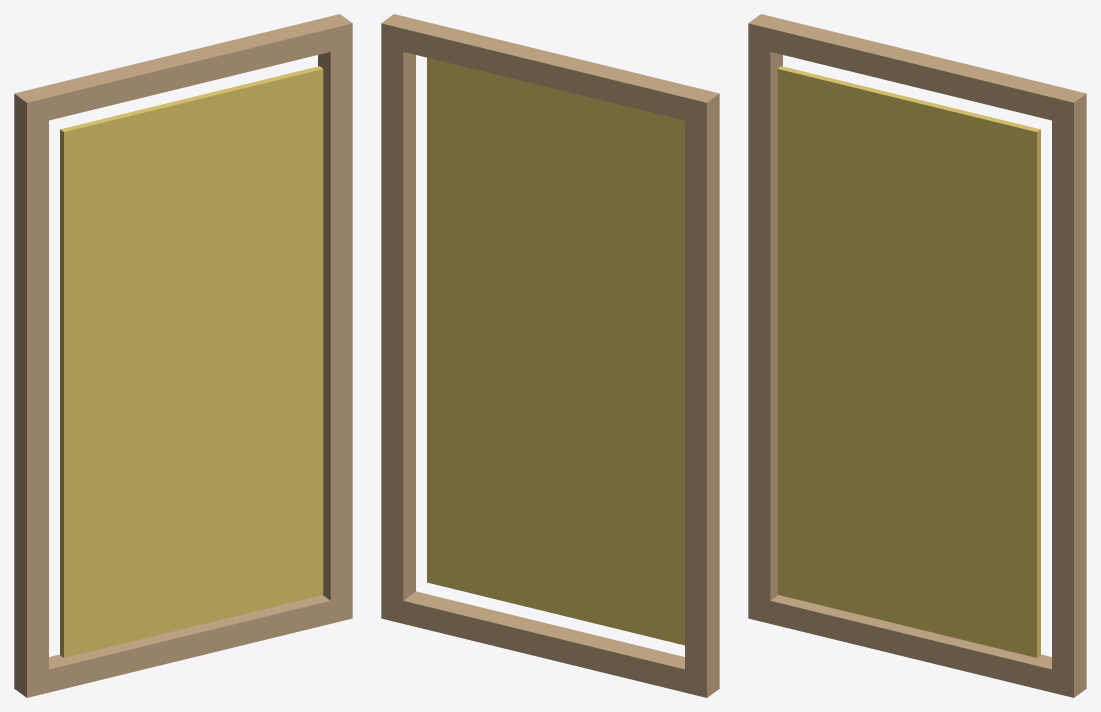
The model's file is art_frame_03.glb.
3 renders of one model, left to right at view 1: azimuth 30°, elevation 25°; view 2: azimuth 150°, elevation 25°; view 3: azimuth 330°, elevation 25°, orthographic.
Visible parts, largest first — view 1: art, v-0.275, v0.275, h0.99, h0; view 2: art, v-0.275, v0.275, h0.99, h0; view 3: art, v0.275, v-0.275, h0.99, h0.
Boxes of the visible parts, x1=… form: art: x1=60, y1=66, x2=323, y2=657; v-0.275: x1=14, y1=105, x2=48, y2=686; v0.275: x1=318, y1=35, x2=352, y2=611; h0.99: x1=14, y1=14, x2=352, y2=125; h0: x1=14, y1=595, x2=352, y2=697; art: x1=427, y1=57, x2=684, y2=645; v-0.275: x1=685, y1=105, x2=719, y2=686; v0.275: x1=381, y1=35, x2=415, y2=611; h0.99: x1=381, y1=14, x2=719, y2=125; h0: x1=381, y1=591, x2=719, y2=697; art: x1=777, y1=66, x2=1040, y2=657; v0.275: x1=1052, y1=105, x2=1086, y2=686; v-0.275: x1=748, y1=35, x2=782, y2=611; h0.99: x1=748, y1=14, x2=1086, y2=125; h0: x1=748, y1=595, x2=1086, y2=697.
Size of the model in its own units: 0.59 by 1.03 by 0.052.
